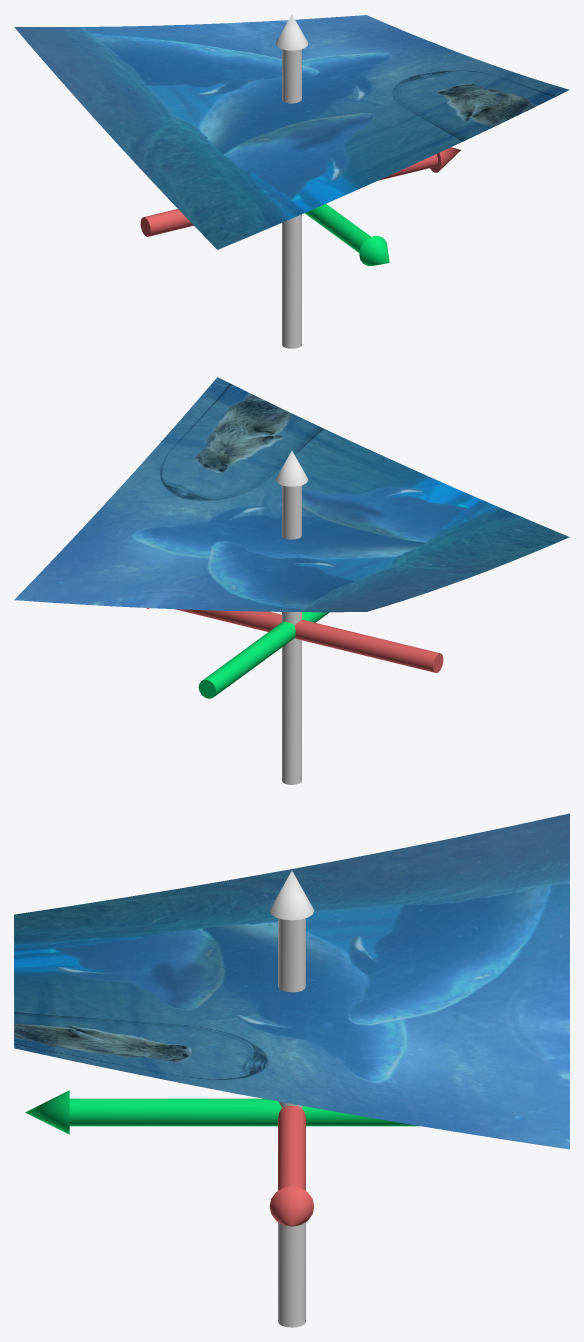
The model's file is asset.gltf.
3 renders of one model, top to bottom at view 1: azimuth 30°, elevation 25°; view 2: azimuth 150°, elevation 25°; view 3: azimuth 270°, elevation 25°, orthographic. The views are drawn at different scales.
Visible parts, largest first — view 1: Ebene, Zylinder, Zylinder Instanz.1, Zylinder Instanz; view 2: Ebene, Zylinder, Zylinder Instanz, Zylinder Instanz.1; view 3: Ebene, Zylinder Instanz.1, Zylinder, Zylinder Instanz.
Part boxes in pixels (x1,y1,x2,y2): Ebene: (14,15,569,249); Zylinder: (276,14,307,348); Zylinder Instanz.1: (305,204,389,265); Zylinder Instanz: (140,147,460,236); Ebene: (14,377,569,612); Zylinder: (275,451,308,784); Zylinder Instanz: (146,608,443,672); Zylinder Instanz.1: (198,612,329,698); Ebene: (14,813,569,1149); Zylinder Instanz.1: (25,1090,420,1134); Zylinder: (269,871,314,1327); Zylinder Instanz: (269,1105,314,1226).
Size of the model in its own units: 400 by 358 by 400.
3 materials, 1 textured.
